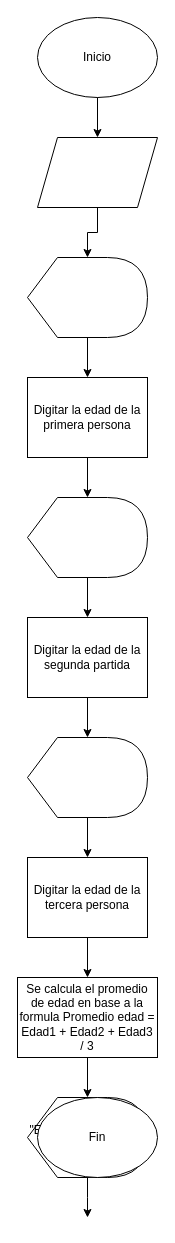
The diagram is 175 pixels wide and 1243 high, and some of its shapes have lost their labels. The shapes that lost their labels are listed below. From the top down, each one's box as (x1, y1, x2, y2) in pixels, then its label:
(36, 136, 158, 208): Edad1, Edad2, Edad3
(26, 256, 148, 338): "Ingrese la edad de la primera persona"
(26, 496, 148, 578): "Ingrese la edad de la segunda persona"
(26, 736, 148, 818): "Ingrese la edad de la tercera persona"
